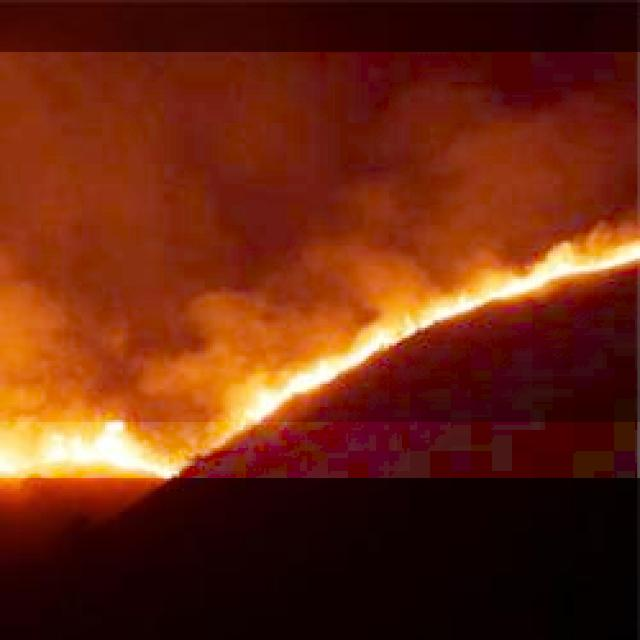Fire: (0, 242, 640, 478)
Smoke: (0, 52, 640, 422)
